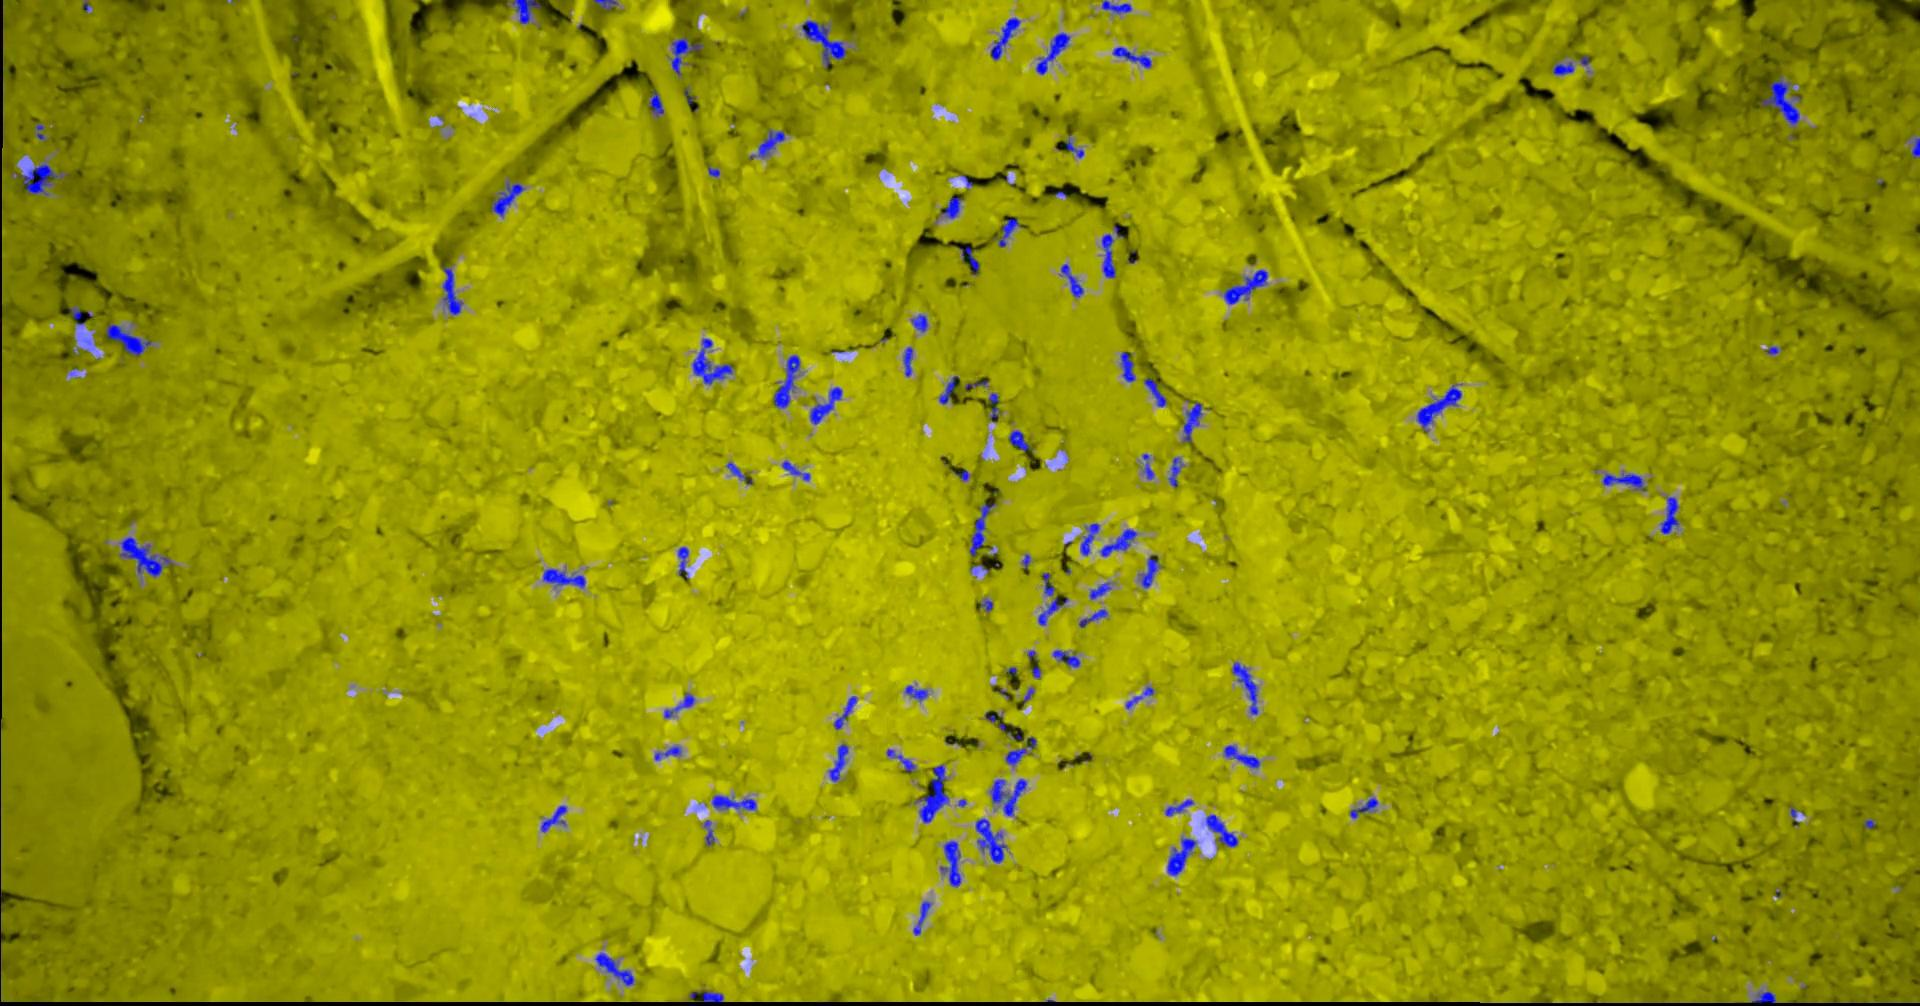ant: (1416, 384, 1462, 431), (119, 536, 171, 577), (801, 20, 844, 66), (916, 763, 949, 822), (1761, 75, 1799, 124), (692, 338, 731, 384), (1223, 269, 1267, 304), (1035, 32, 1069, 74), (17, 163, 60, 196), (105, 324, 151, 354), (989, 779, 1026, 815), (975, 818, 1006, 862), (773, 354, 799, 406), (969, 503, 994, 555), (1232, 662, 1257, 714), (594, 951, 632, 984), (809, 386, 841, 424), (990, 17, 1018, 60), (670, 37, 701, 75), (491, 180, 523, 216), (1101, 225, 1123, 277), (1166, 838, 1196, 875), (441, 265, 463, 314), (1098, 528, 1137, 556), (940, 840, 961, 887), (1205, 814, 1237, 846), (749, 130, 783, 159), (1037, 596, 1067, 625), (1112, 46, 1150, 67), (542, 568, 585, 587), (505, 0, 541, 23), (1223, 746, 1258, 768), (833, 695, 856, 729), (1182, 401, 1201, 442), (1060, 263, 1083, 296), (1603, 473, 1644, 490), (663, 694, 695, 716), (540, 805, 566, 832), (828, 744, 847, 781), (1660, 495, 1677, 533), (1140, 554, 1161, 587), (1143, 379, 1166, 406), (998, 217, 1020, 246), (886, 749, 916, 771), (1349, 796, 1378, 818), (711, 795, 756, 809), (1079, 523, 1098, 555), (957, 246, 979, 274), (726, 461, 752, 484), (781, 460, 809, 480), (1078, 608, 1107, 627), (913, 901, 930, 934), (938, 375, 957, 403), (1051, 649, 1079, 667), (940, 196, 961, 218), (1119, 351, 1134, 381), (1164, 799, 1192, 815), (1743, 991, 1775, 1005), (690, 989, 723, 1002), (1008, 431, 1029, 451), (1101, 0, 1131, 13), (648, 90, 663, 116), (1004, 747, 1026, 765), (654, 746, 681, 760), (1168, 457, 1181, 486), (677, 546, 688, 578), (988, 392, 1001, 420), (904, 685, 927, 700), (1065, 138, 1083, 158), (1027, 650, 1040, 677), (1090, 582, 1110, 598), (902, 345, 912, 376), (910, 314, 927, 332), (1142, 453, 1153, 479), (1552, 61, 1573, 74), (1043, 572, 1054, 594), (703, 819, 714, 845), (69, 307, 84, 324), (593, 0, 617, 9), (984, 711, 1002, 721), (1911, 137, 1919, 158)
